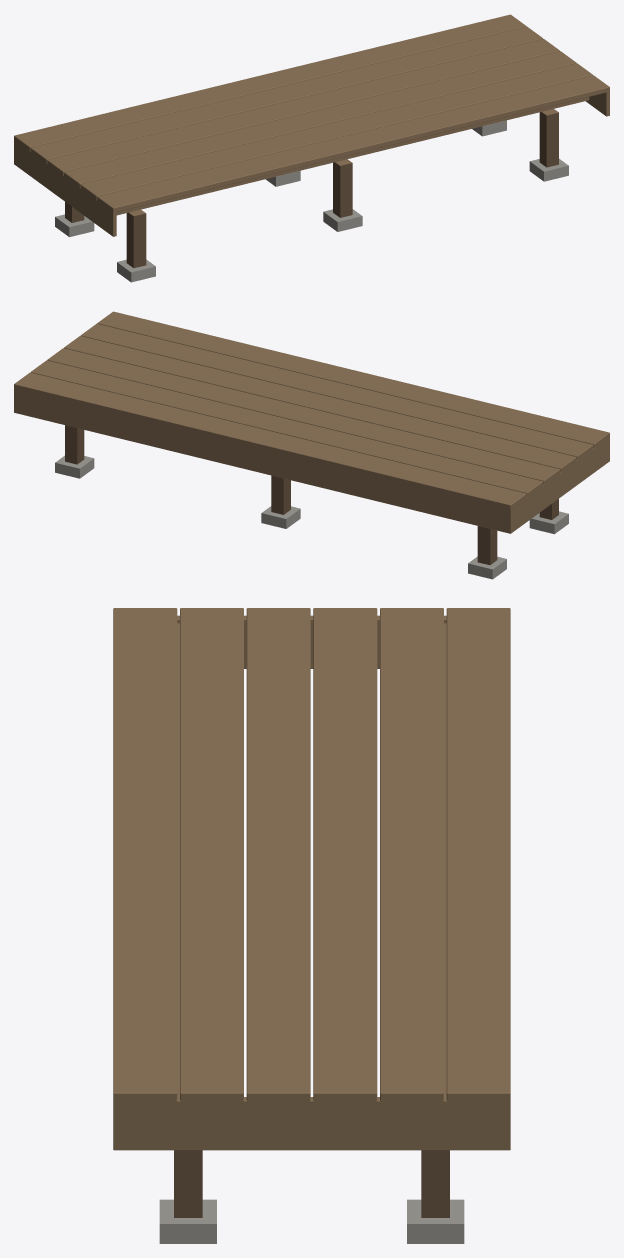
File: wood_deck.glb
The picture shows the model from 3 angles, top to bottom: view 1: azimuth 30°, elevation 25°; view 2: azimuth 150°, elevation 25°; view 3: azimuth 270°, elevation 25°; orthographic projection. The views are drawn at different scales.
Visible parts, largest first — view 1: WoodDeck; view 2: WoodDeck; view 3: WoodDeck.
Boxes of the visible parts, left/top/right/bottom form: WoodDeck: left=14, top=14, right=609, bottom=282; WoodDeck: left=14, top=311, right=609, bottom=579; WoodDeck: left=113, top=608, right=510, bottom=1243.
Bounding box in the file's own units: 2.6 × 0.45 × 0.9.
